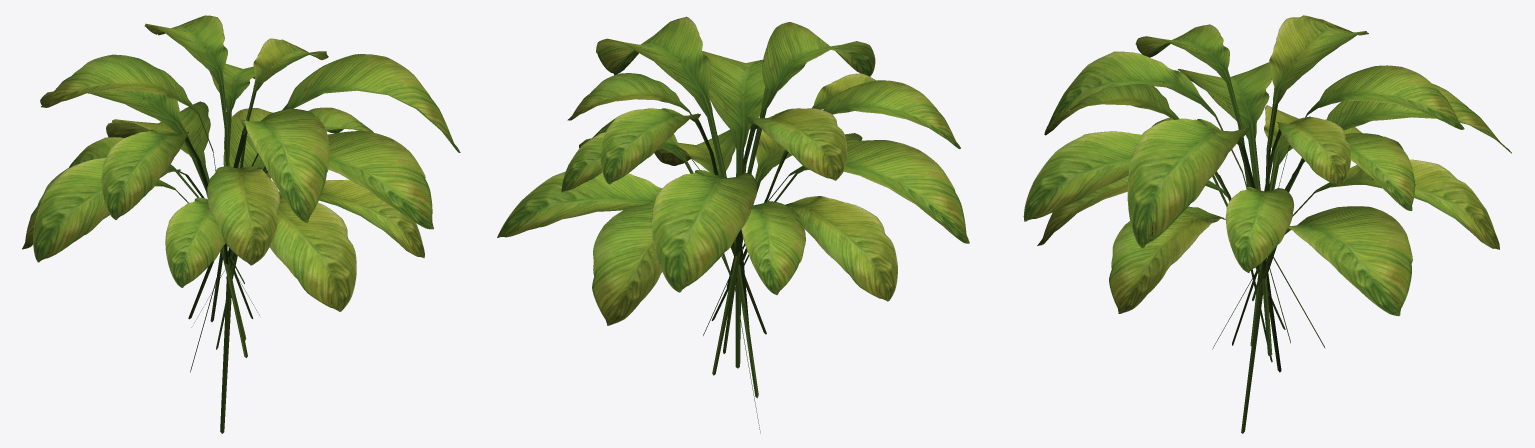
Rendered from groundpalm.obj.
The picture shows the model from 3 angles, left to right: view 1: azimuth 30°, elevation 25°; view 2: azimuth 150°, elevation 25°; view 3: azimuth 270°, elevation 25°; orthographic projection. The views are drawn at different scales.
Visible parts, largest first — view 1: Plane05, Leaf06, Plane03, Leaf02, Plane01, Plane12, Plane06, Leaf03, Plane11, Leaf01, Plane07, Leaf (+7 smaller); view 2: Plane02, Leaf04, Leaf, Plane01, Plane12, Plane04, Plane05, Leaf03, Plane03, Plane10, Plane07, Plane06 (+5 smaller); view 3: Plane12, Plane04, Plane03, Leaf01, Plane05, Plane07, Leaf03, Plane08, Leaf, Plane01, Leaf05, Plane09 (+5 smaller).
Boxes of the visible parts, bbox=[...] form: Plane05: bbox=[210, 108, 329, 321]; Leaf06: bbox=[188, 191, 356, 319]; Plane03: bbox=[216, 131, 433, 349]; Leaf02: bbox=[207, 165, 279, 265]; Plane01: bbox=[33, 158, 253, 318]; Plane12: bbox=[190, 54, 460, 372]; Plane06: bbox=[101, 128, 207, 219]; Leaf03: bbox=[41, 54, 215, 170]; Plane11: bbox=[165, 197, 228, 287]; Leaf01: bbox=[191, 179, 424, 327]; Plane07: bbox=[144, 15, 229, 166]; Leaf: bbox=[106, 101, 247, 357]; Plane02: bbox=[651, 170, 756, 329]; Leaf04: bbox=[711, 196, 897, 320]; Leaf: bbox=[592, 201, 766, 334]; Plane01: bbox=[703, 140, 969, 335]; Plane12: bbox=[596, 16, 758, 398]; Plane04: bbox=[497, 171, 760, 433]; Plane05: bbox=[723, 22, 875, 353]; Leaf03: bbox=[733, 108, 847, 263]; Plane03: bbox=[702, 51, 765, 368]; Plane10: bbox=[727, 201, 805, 294]; Plane07: bbox=[600, 108, 734, 247]; Plane06: bbox=[743, 80, 960, 249]; Plane12: bbox=[1127, 118, 1281, 372]; Plane04: bbox=[1241, 206, 1412, 433]; Plane03: bbox=[1023, 131, 1272, 362]; Leaf01: bbox=[1109, 206, 1285, 329]; Plane05: bbox=[1044, 51, 1290, 343]; Plane07: bbox=[1278, 65, 1464, 187]; Leaf03: bbox=[1265, 15, 1368, 262]; Plane08: bbox=[1225, 187, 1294, 278]; Leaf: bbox=[1212, 159, 1499, 349]; Plane01: bbox=[1177, 62, 1272, 356]; Leaf05: bbox=[1264, 116, 1350, 191]; Plane09: bbox=[1286, 133, 1415, 210].
Bounding box in the file's own units: 7.6 × 6.32 × 7.84.
1 material, 1 textured.
